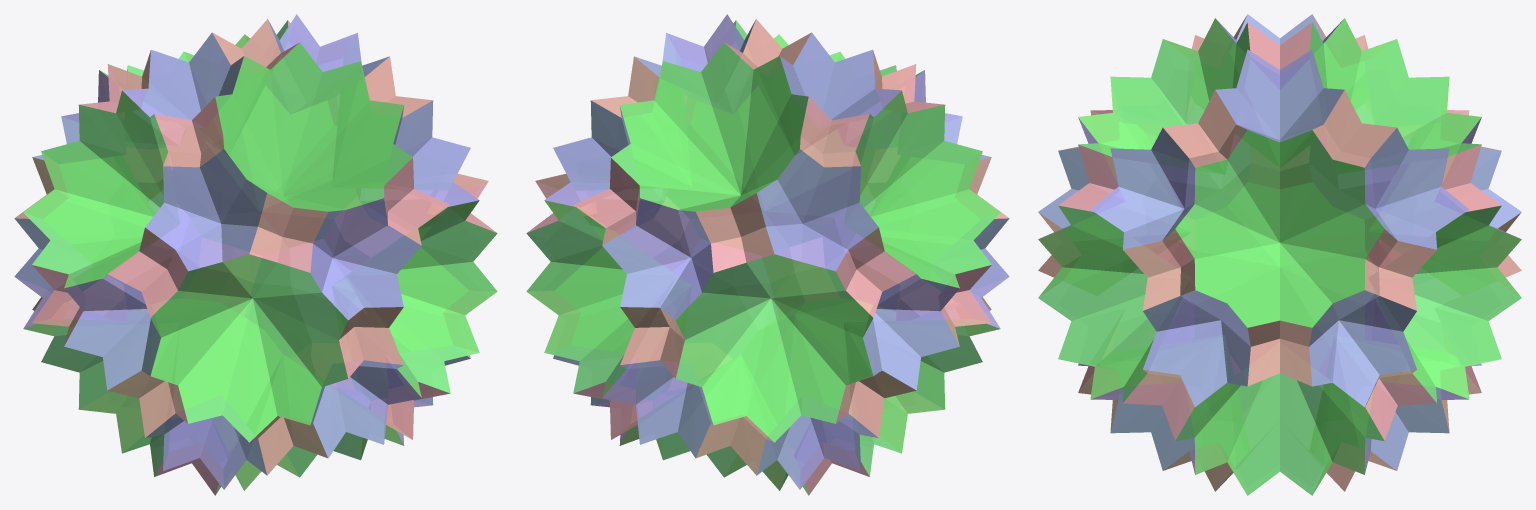
File: Truncated_Icosidodecahedron.obj
3 views of the same model, side by side, from view 1: azimuth 30°, elevation 25°; view 2: azimuth 150°, elevation 25°; view 3: azimuth 270°, elevation 25° (orthographic).
Size of the model in its own units: 7.47 by 7.47 by 7.47.
